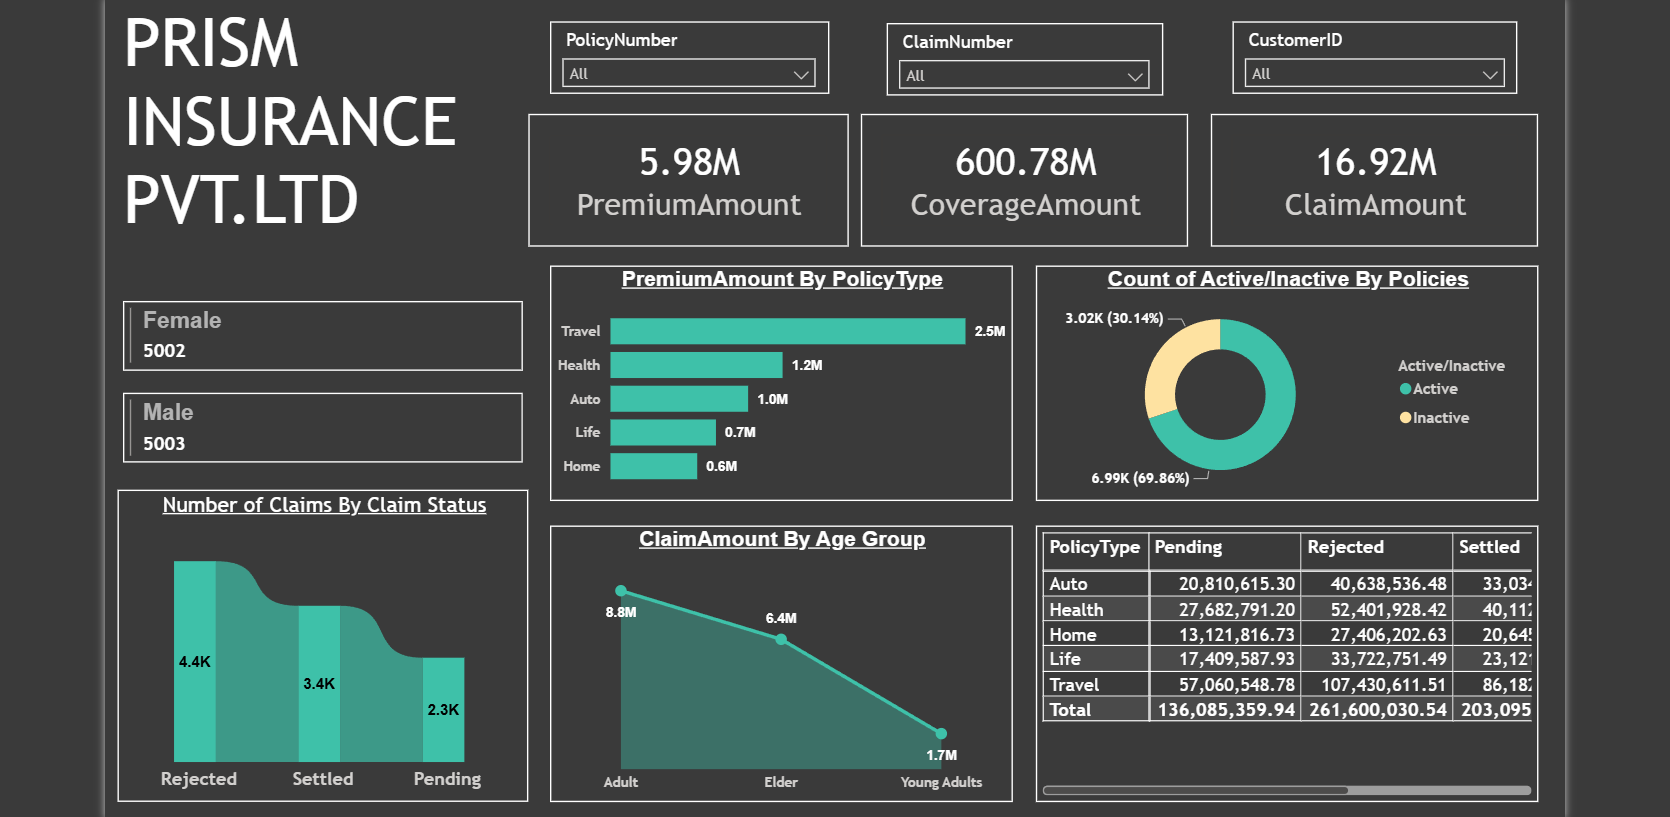

The page's visual inventory and layout, read from the dashboard file:
{"tool":"powerbi","page":{"name":"INSURANCE DASHBOARD","canvas":[1280,720],"ordinal":0},"visuals":[{"type":"slicer","fields":{"Values":["InsuranceData.PolicyNumber"]},"box":[389.7,20.6,244.3,63.1],"z":0},{"type":"slicer","fields":{"Values":["InsuranceData.ClaimNumber"]},"box":[685,21.7,241.9,63.9],"z":1000},{"type":"slicer","fields":{"Values":["InsuranceData.CustomerID"]},"box":[988.1,20.4,250.1,63.9],"z":2000},{"type":"textbox","box":[10.9,0,341.1,233.8],"z":3000},{"type":"cardVisual","fields":{"Data":["Sum(InsuranceData.PremiumAmount)"]},"box":[371.2,101.6,280.4,116.5],"z":4000},{"type":"cardVisual","fields":{"Data":["Sum(InsuranceData.CoverageAmount)"]},"box":[662.5,101.6,287.2,116.5],"z":5000},{"type":"cardVisual","fields":{"Data":["Sum(InsuranceData.ClaimAmount)"]},"box":[968.7,101.6,287.2,116.5],"z":6000},{"type":"multiRowCard","fields":{"Values":["InsuranceData.Gender","CountNonNull(InsuranceData.Gender)"]},"box":[10.9,260.9,360.2,188.9],"z":7000},{"type":"ribbonChart","title":"Number of Claims By Claim Status","fields":{"Category":["InsuranceData.ClaimStatus"],"Y":["CountNonNull(InsuranceData.ClaimStatus)"]},"box":[10.8,430.8,360.4,273.7],"z":8000},{"type":"barChart","title":"PremiumAmount By PolicyType","fields":{"Category":["InsuranceData.PolicyType"],"Y":["Sum(InsuranceData.PremiumAmount)"]},"box":[390.2,234.4,405.1,205.9],"z":9000},{"type":"lineChart","title":"ClaimAmount By Age Group","fields":{"Category":["InsuranceData.Age Group"],"Y":["Sum(InsuranceData.ClaimAmount)"]},"box":[390.2,462,405.1,242.5],"z":10000},{"type":"donutChart","title":"Count of Active/Inactive By Policies","fields":{"Category":["InsuranceData.Active/Inactive"],"Y":["CountNonNull(InsuranceData.Active/Inactive)"]},"box":[815.6,234.4,440.3,205.9],"z":11000},{"type":"pivotTable","fields":{"Rows":["InsuranceData.PolicyType"],"Values":["Sum(InsuranceData.CoverageAmount)"],"Columns":["InsuranceData.ClaimStatus"]},"box":[815.6,462,440.3,242.5],"z":12000}]}

Visuals, with their boxes on the page's 1280x720 design canvas (x1, y1, x2, y2). These are canvas units, not pixel positions in the 1670x817 screenshot, which may show the page scaled, cropped or inside an application window:
slicer - InsuranceData.PolicyNumber: locate(390, 21, 634, 84)
slicer - InsuranceData.ClaimNumber: locate(685, 22, 927, 86)
slicer - InsuranceData.CustomerID: locate(988, 20, 1238, 84)
textbox: locate(11, 0, 352, 234)
cardVisual - Sum(InsuranceData.PremiumAmount): locate(371, 102, 652, 218)
cardVisual - Sum(InsuranceData.CoverageAmount): locate(662, 102, 950, 218)
cardVisual - Sum(InsuranceData.ClaimAmount): locate(969, 102, 1256, 218)
multiRowCard - InsuranceData.Gender x CountNonNull(InsuranceData.Gender): locate(11, 261, 371, 450)
"Number of Claims By Claim Status" ribbonChart: locate(11, 431, 371, 704)
"PremiumAmount By PolicyType" barChart: locate(390, 234, 795, 440)
"ClaimAmount By Age Group" lineChart: locate(390, 462, 795, 704)
"Count of Active/Inactive By Policies" donutChart: locate(816, 234, 1256, 440)
pivotTable - InsuranceData.PolicyType x Sum(InsuranceData.CoverageAmount): locate(816, 462, 1256, 704)
